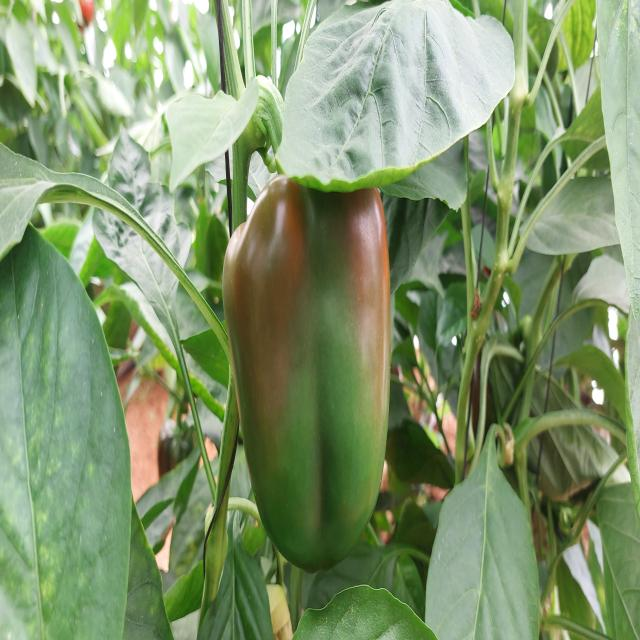BrownishRed--Can-be-Harvested: (219, 168, 396, 580)
